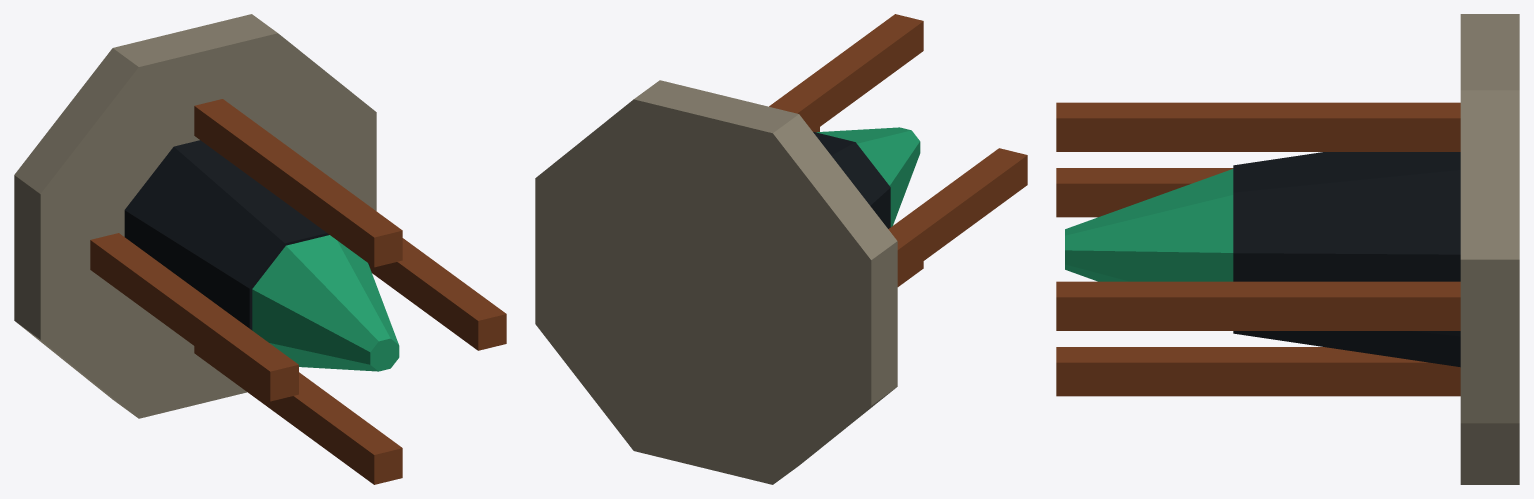
Rendered from SM_AEON_TreasuryAnchor.obj.
The picture shows the model from 3 angles, left to right: view 1: azimuth 30°, elevation 25°; view 2: azimuth 150°, elevation 25°; view 3: azimuth 270°, elevation 25°; orthographic projection. The views are drawn at different scales.
Visible parts, largest first — view 1: SM_AEON_TreasuryAnchor; view 2: SM_AEON_TreasuryAnchor; view 3: SM_AEON_TreasuryAnchor.
Boxes of the visible parts, x1,y1,x2,y2 form: SM_AEON_TreasuryAnchor: (14, 14, 506, 484); SM_AEON_TreasuryAnchor: (535, 14, 1027, 484); SM_AEON_TreasuryAnchor: (1056, 14, 1519, 484).
Bounding box in the file's own units: 259 × 259 × 275.
